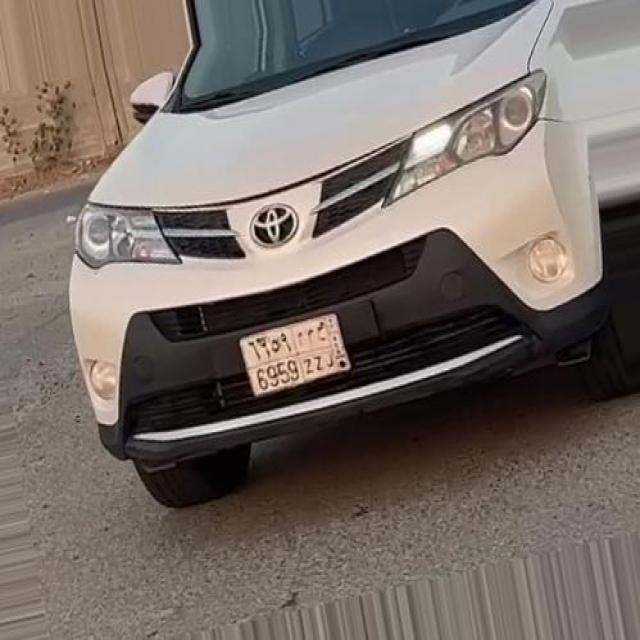Car-plate: (229, 296, 368, 415)
